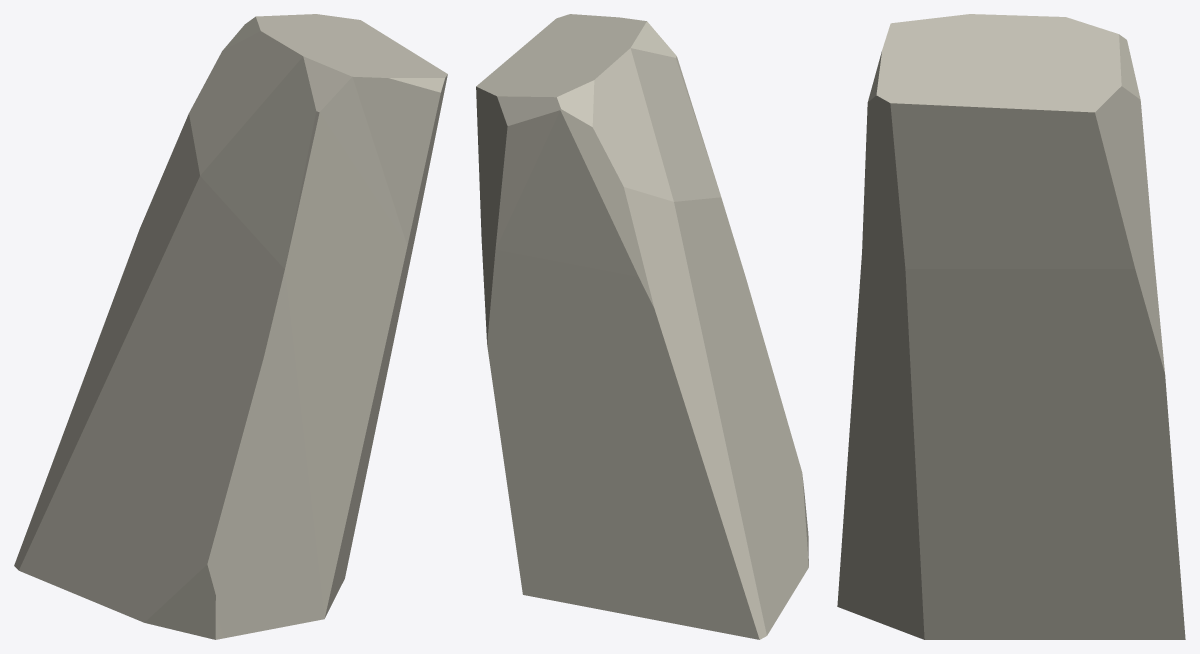
Rendered from Rock_Square_l_08.fbx.
The picture shows the model from 3 angles, left to right: view 1: azimuth 30°, elevation 25°; view 2: azimuth 150°, elevation 25°; view 3: azimuth 270°, elevation 25°; orthographic projection. The views are drawn at different scales.
Parts seen in each view (by area): view 1: Rock_Square_l_08; view 2: Rock_Square_l_08; view 3: Rock_Square_l_08.
Boxes of the visible parts, <box> form: Rock_Square_l_08: <box>14,14,447,639</box>; Rock_Square_l_08: <box>476,14,808,639</box>; Rock_Square_l_08: <box>837,14,1185,639</box>.
Size of the model in its own units: 215 by 325 by 167.
